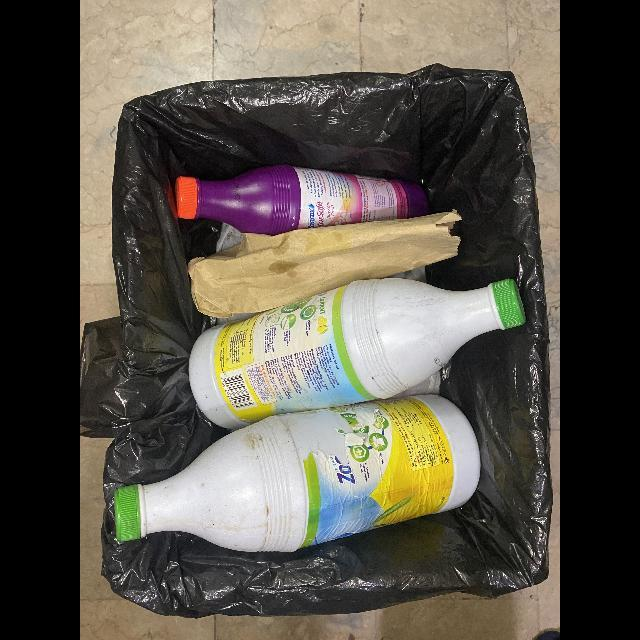paper: (187, 211, 462, 319)
plastic: (113, 394, 481, 553), (188, 278, 525, 430), (175, 165, 430, 236)
